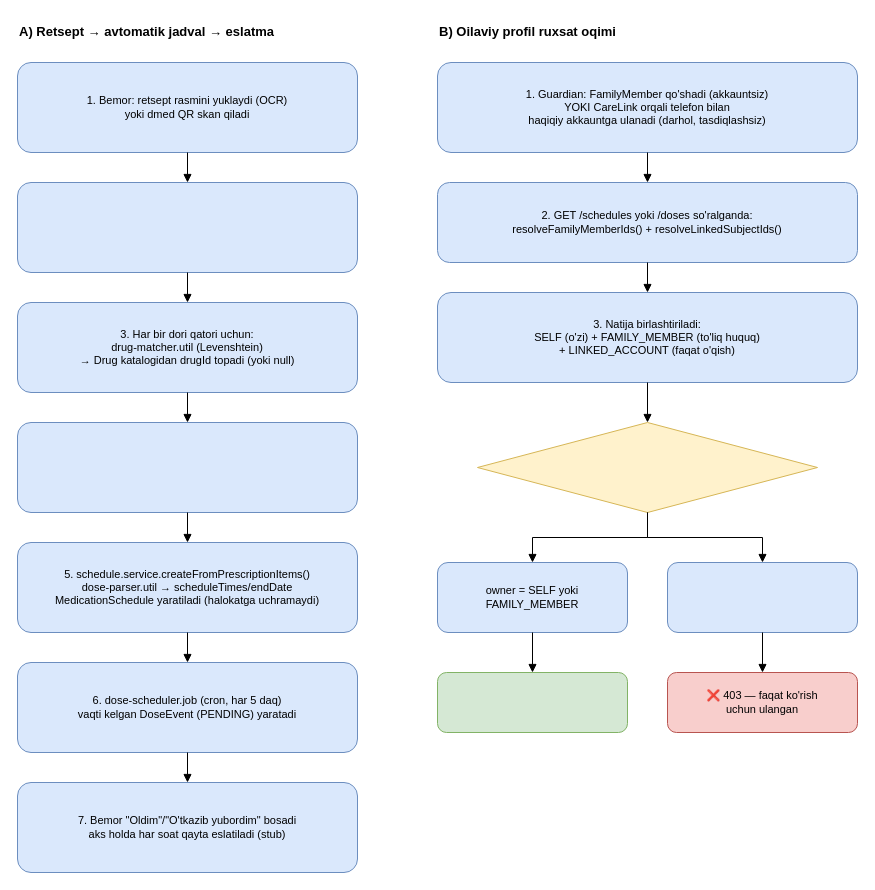
Image size: 875x890. Some labels were removed from this diagram. Each missing label, with the centre of its shape:
"2. prescription.service: OCR → ocr-service (Gemini) dmed → DmedAdapter (mock)" goes at point (187, 227).
"4. Shifokor tasdiqlaydi (OCR) yoki dmed avtomatik APPROVED" goes at point (187, 467).
"owner = LINKED_ACCOUNT (haqiqiy, ulangan akkaunt)" goes at point (762, 597).
"Yozish amali (create / deactivate / confirm / skip)?" goes at point (647, 467).
"✅ Ruxsat berildi (200/201)" goes at point (532, 702).
